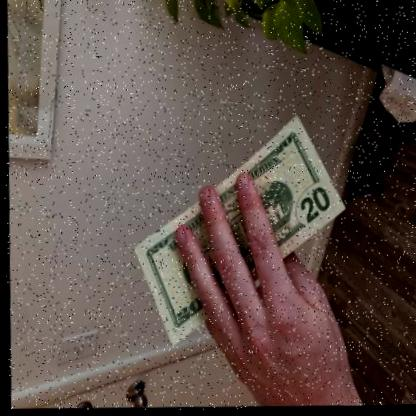twenty-back: (131, 115, 345, 349)
